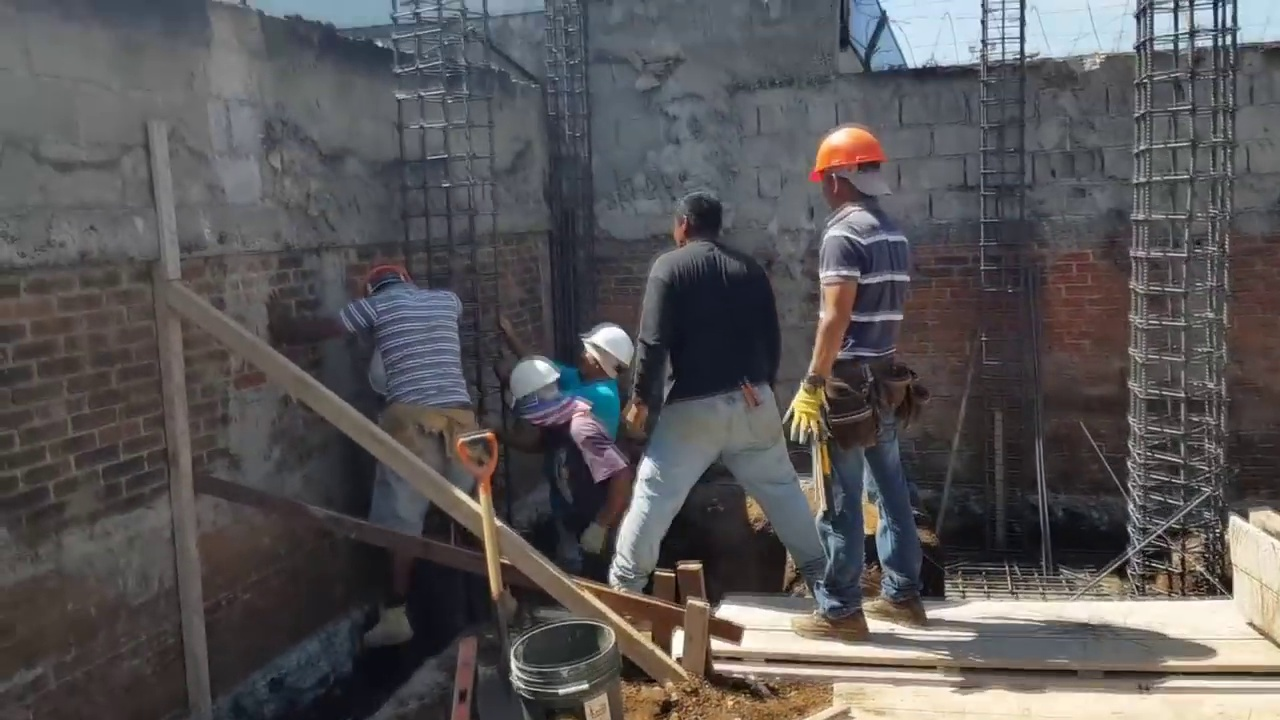helmet: (809, 126, 890, 184), (506, 357, 560, 405), (580, 327, 633, 375), (355, 254, 412, 286)
helmet-off: (675, 194, 730, 252)
helmet-on: (811, 127, 891, 214), (507, 357, 570, 450), (572, 322, 631, 389), (354, 254, 412, 294)
person: (613, 180, 842, 635), (267, 248, 490, 636), (793, 115, 916, 646), (508, 355, 626, 563), (564, 315, 635, 445)
